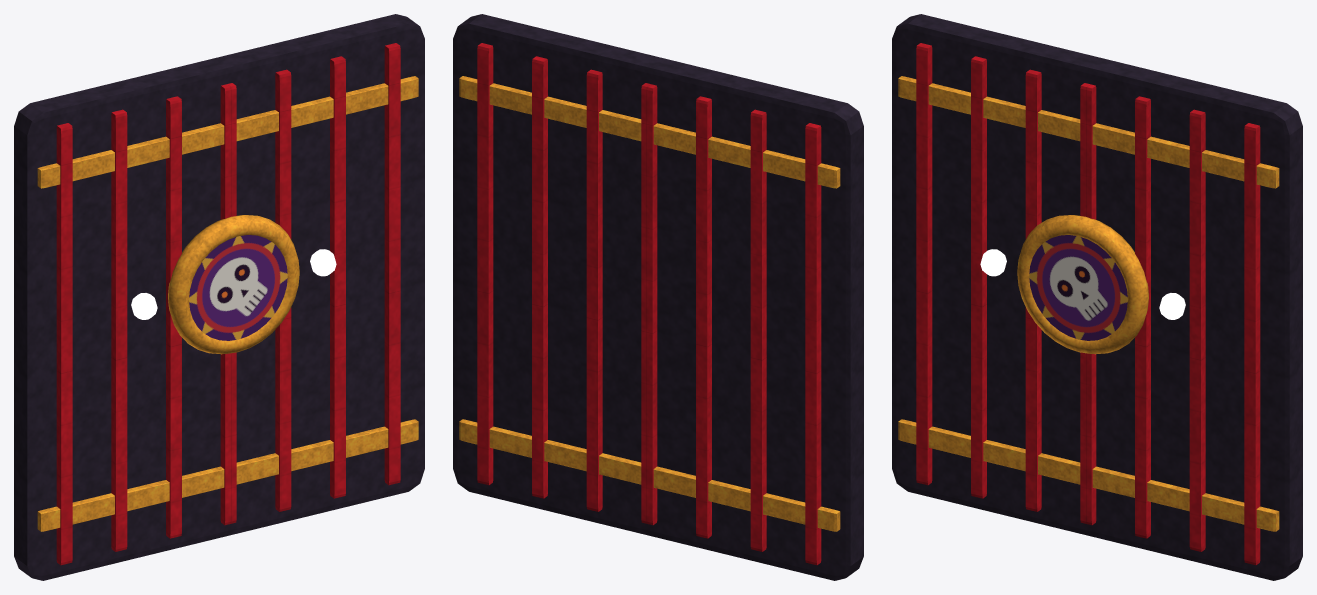
The model's file is MO_MonsterRoomDoor.fbx.
The picture shows the model from 3 angles, left to right: view 1: azimuth 30°, elevation 25°; view 2: azimuth 150°, elevation 25°; view 3: azimuth 330°, elevation 25°; orthographic projection.
Parts seen in each view (by area): view 1: MO_MonsterRoomDoor; view 2: MO_MonsterRoomDoor; view 3: MO_MonsterRoomDoor.
Boxes of the visible parts, box(x1,y1,x2,y2) form: MO_MonsterRoomDoor: box(14, 14, 424, 580); MO_MonsterRoomDoor: box(453, 14, 863, 580); MO_MonsterRoomDoor: box(892, 14, 1302, 580).
Bounding box in the file's own units: 4 × 4.5 × 0.57.
